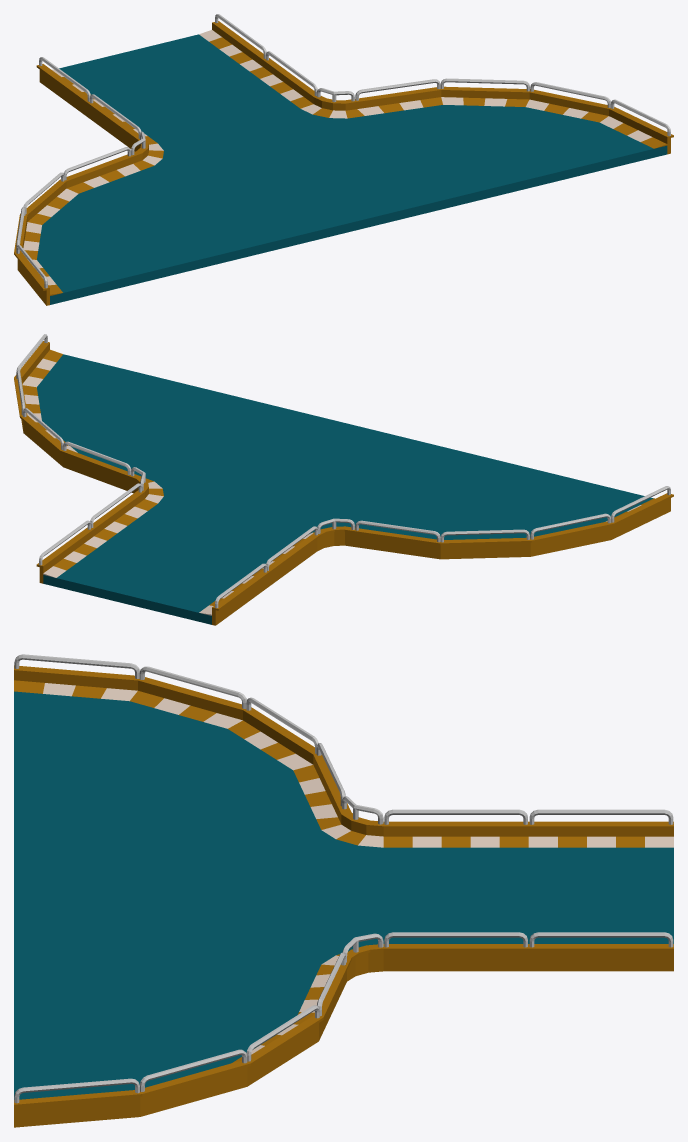
The model's file is split_1-3-noBarrier.FBX.
The picture shows the model from 3 angles, top to bottom: view 1: azimuth 30°, elevation 25°; view 2: azimuth 150°, elevation 25°; view 3: azimuth 270°, elevation 25°; orthographic projection. The views are drawn at different scales.
Parts seen in each view (by area): view 1: split_1-3, wall_l, wall_r, curbs_l, curbs_r; view 2: split_1-3, wall_r, wall_l, curbs_l, curbs_r; view 3: split_1-3, wall_l, wall_r, curbs_r, curbs_l.
Boxes of the visible parts, x1,y1,x2,y2 form: split_1-3: (37,34,667,304); wall_l: (212,14,673,154); wall_r: (14,57,148,305); curbs_l: (199,30,667,148); curbs_r: (23,69,163,295); split_1-3: (37,354,653,624); wall_r: (212,486,673,625); wall_l: (14,334,148,583); curbs_l: (22,349,163,577); curbs_r: (199,498,654,615); split_1-3: (14,691,673,1099); wall_l: (14,932,673,1127); wall_r: (14,654,673,836); curbs_r: (14,680,673,847); curbs_l: (232,954,339,1062).
Size of what is drawn, in the model's own units: 716 by 455 by 29.31.
